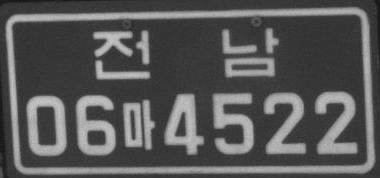0: (25, 95, 68, 156)
2: (262, 91, 307, 155), (314, 90, 357, 155)
4: (164, 93, 205, 155)
5: (211, 92, 254, 156)
6: (75, 93, 116, 156)
마: (121, 98, 155, 150)
전남_D: (92, 26, 280, 81)
